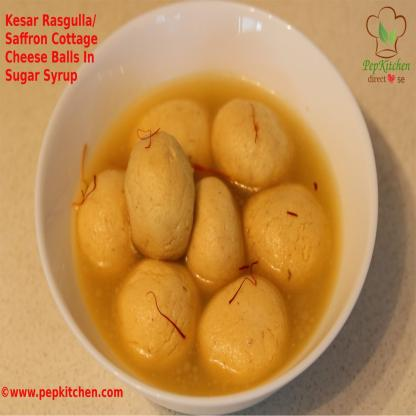rasgulla: (195, 273, 292, 384), (242, 182, 334, 292), (112, 261, 203, 369), (124, 132, 196, 260), (212, 96, 296, 190), (185, 175, 245, 293), (126, 96, 212, 168), (78, 168, 140, 267)
